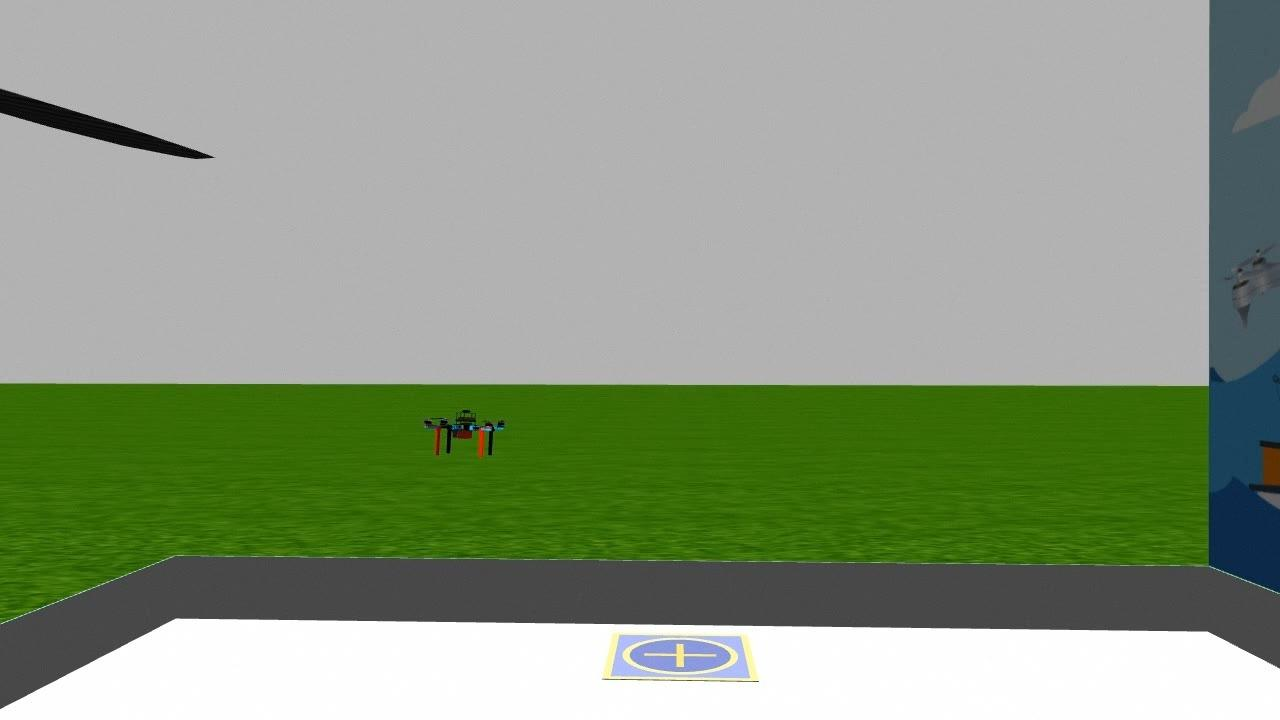UAV: (419, 404, 509, 464)
